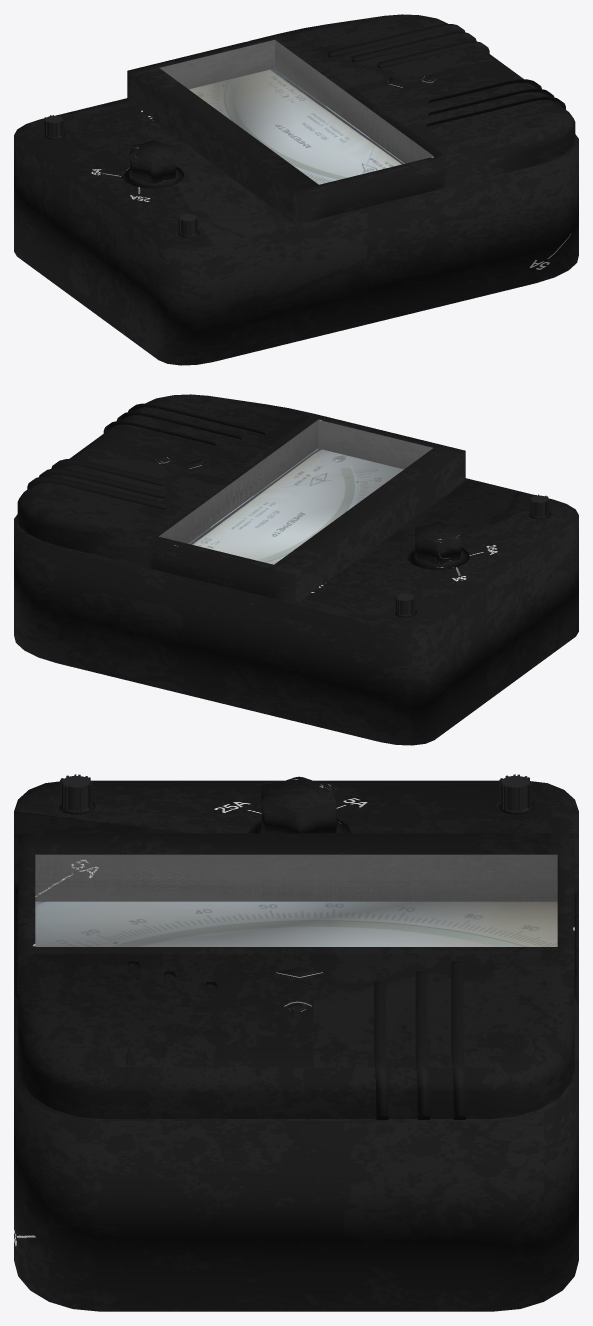
Rendered from ampermetras.glb.
3 views of the same model, one above another, from view 1: azimuth 30°, elevation 25°; view 2: azimuth 150°, elevation 25°; view 3: azimuth 270°, elevation 25° (orthographic). The views are drawn at different scales.
Visible parts, largest first — view 1: Cube; view 2: Cube; view 3: Cube.
Boxes of the visible parts, box(x1,y1,x2,y2) form: Cube: box(14, 14, 578, 365); Cube: box(14, 394, 578, 745); Cube: box(14, 774, 578, 1311).
Size of the model in its own units: 3.3 by 1.11 by 2.31.
5 materials, 2 textured.
